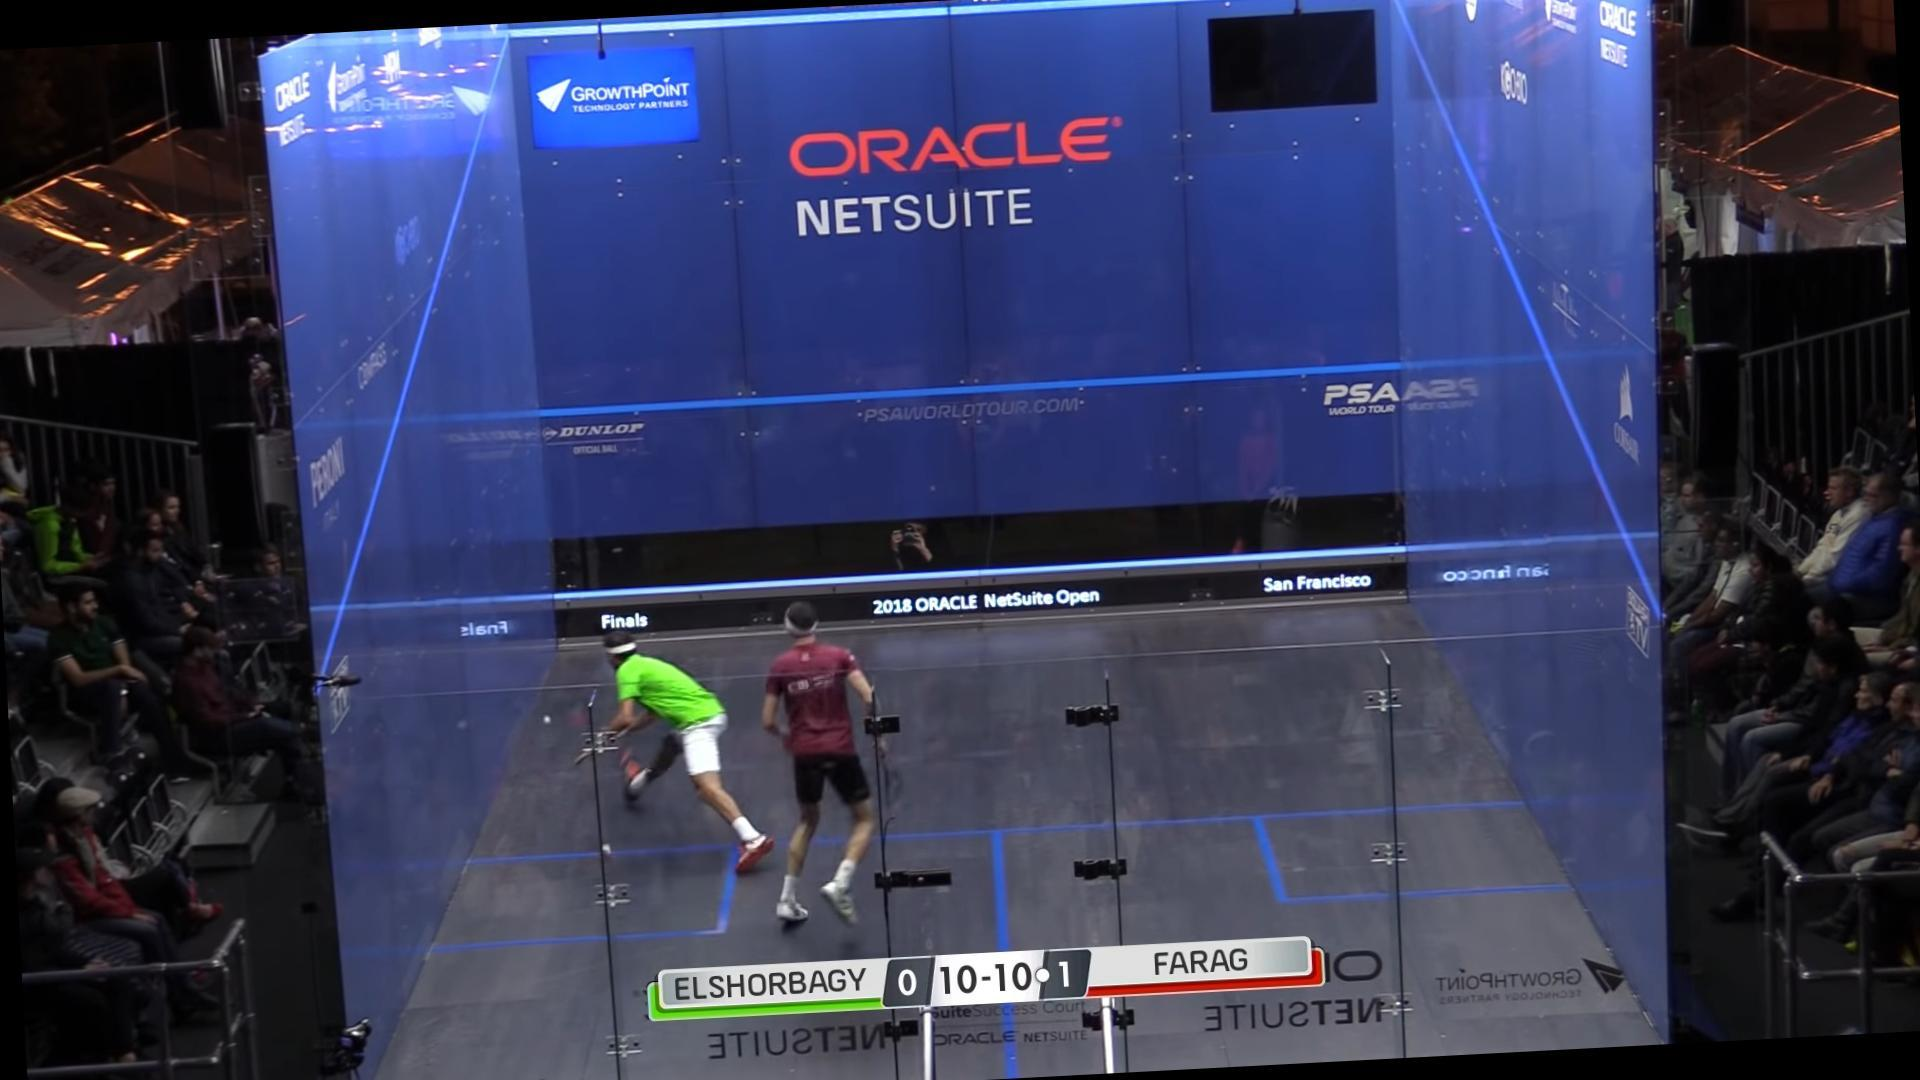Squash-Ball: (534, 707, 554, 732)
